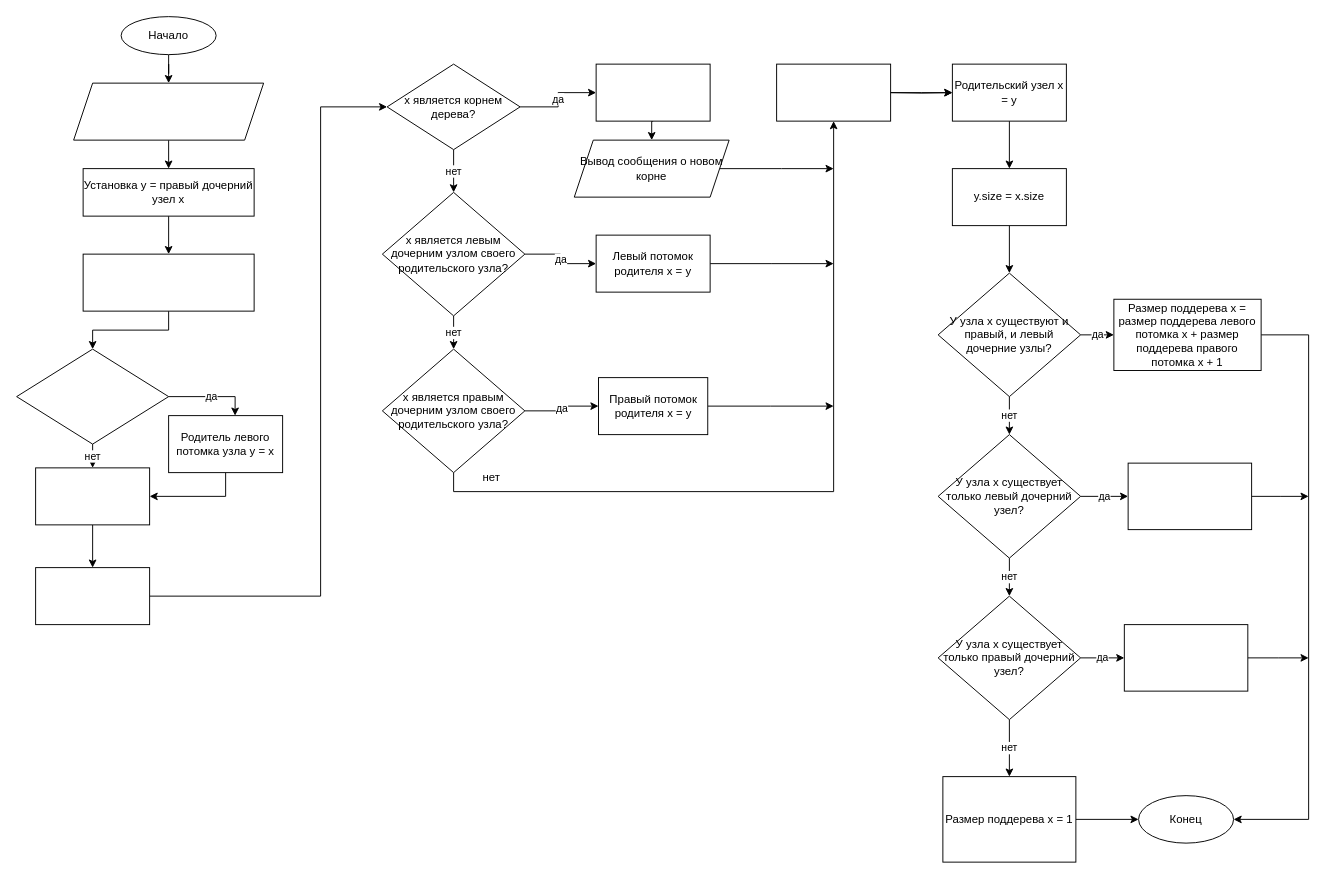
The diagram is 1333 pixels wide and 879 high, and some of its shapes have lost their labels. The shapes that lost their labels are listed below. From the top down, each one's centre as x and y in pixels, then its label:
the point at 168,111: Вывести сообщение о левом повороте на узле x
the point at 652,92: Корень дерева = y
the point at 833,92: Левый дочерний узел y = х
the point at 168,282: Превращение левого поддерева y в правое поддерево x
the point at 92,396: Левый потомок узла y существует?
the point at 92,496: Установка p = родитель узла x
the point at 1189,496: Размер поддерева х = размер поддерева левого потомка х + 1
the point at 92,596: Родитель узла y = p
the point at 1185,657: Размер поддерева х = размер поддерева правого потомка х + 1
